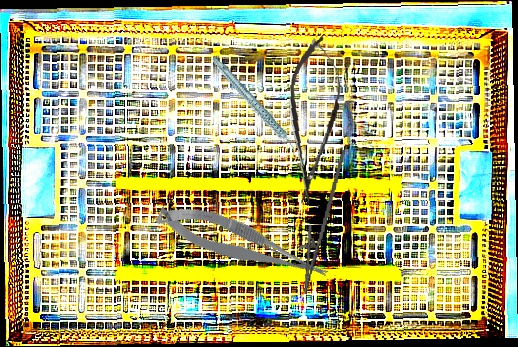Handpiece: (211, 44, 298, 170)
Micro Scissor: (153, 188, 332, 302), (279, 33, 347, 208)
Needle Holder: (291, 145, 347, 297)
